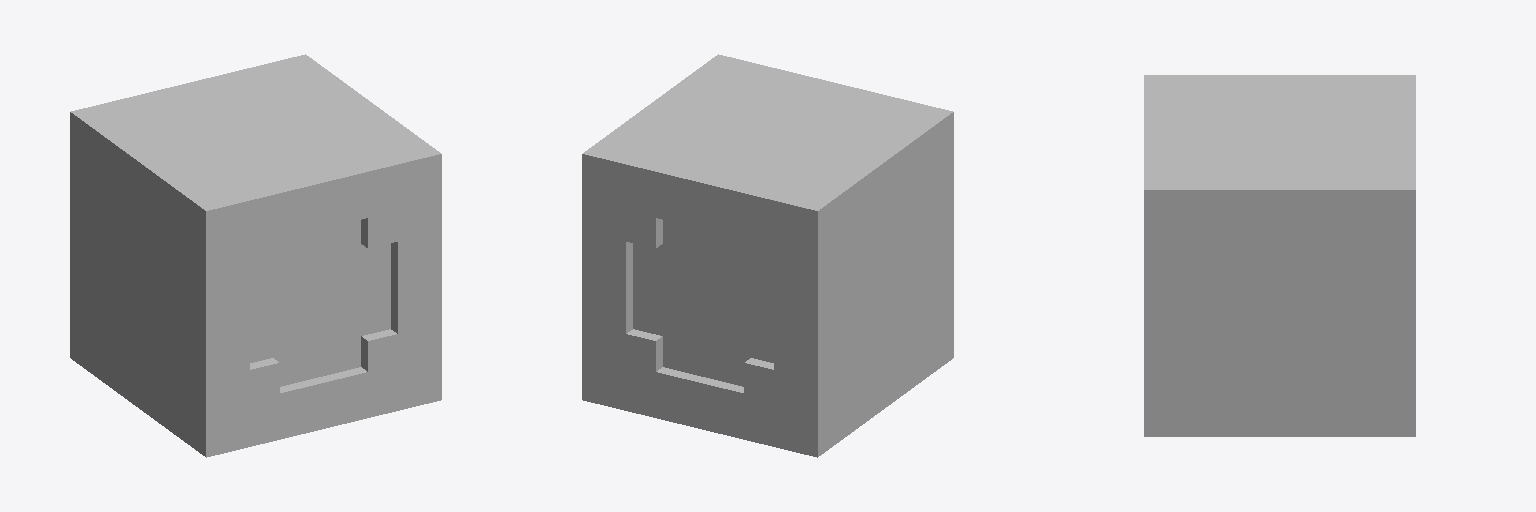
Rendered from pressure_chamber_interface_inv.obj.
The picture shows the model from 3 angles: view 1: azimuth 30°, elevation 25°; view 2: azimuth 150°, elevation 25°; view 3: azimuth 270°, elevation 25°; orthographic projection.
Visible parts, largest first — view 1: Base, Output; view 2: Base, Input; view 3: Base.
Boxes of the visible parts, box(x1,y1,x2,y2) form: Base: box(70, 54, 441, 457); Output: box(250, 220, 390, 386); Base: box(582, 54, 953, 457); Input: box(633, 220, 773, 386); Base: box(1144, 75, 1415, 436).
Size of the model in its own units: 1 by 1 by 1.